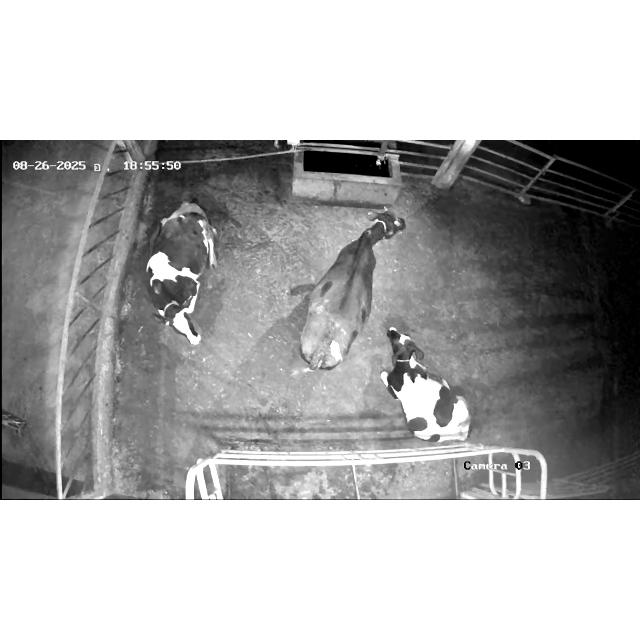stand: (297, 205, 413, 375)
